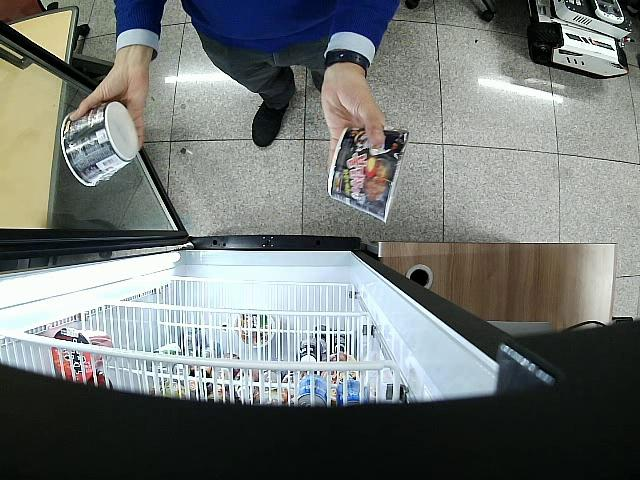00_hand: (70, 59, 150, 151), (322, 76, 385, 174)
07_buldak_L: (327, 128, 410, 223), (61, 100, 140, 187)
